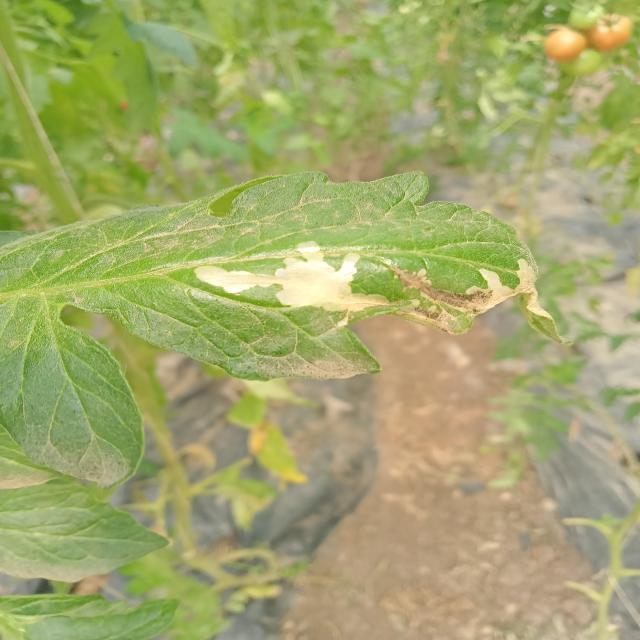Tuta absoluta: (193, 230, 391, 316), (475, 255, 551, 333), (388, 267, 487, 313)
